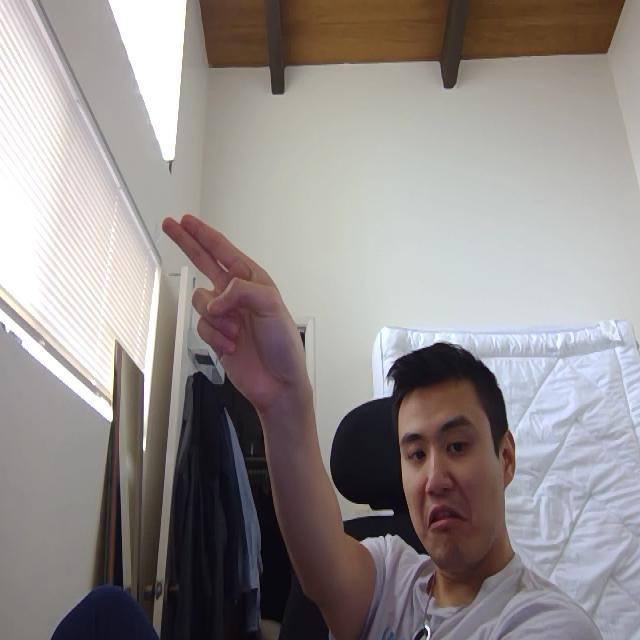H: (143, 185, 334, 444)
